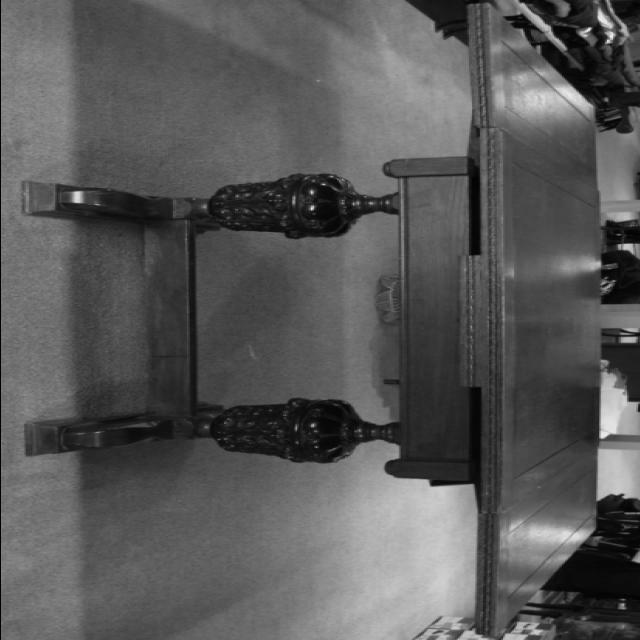table: (24, 1, 597, 636)
